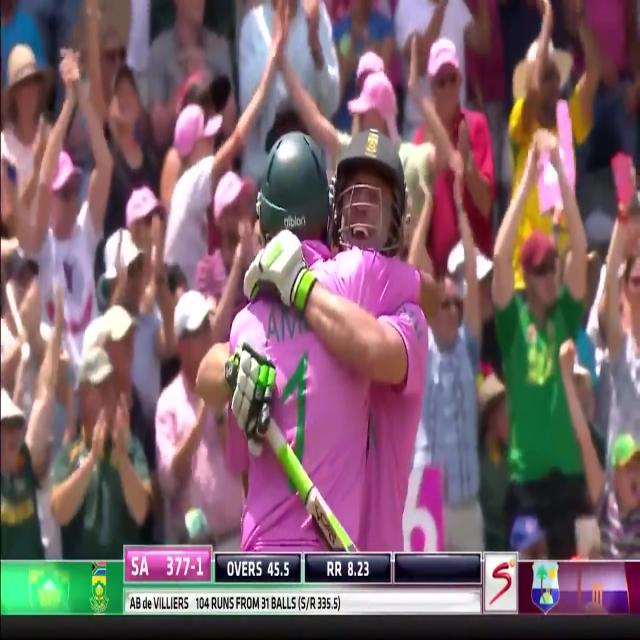Ball: (216, 134, 437, 552)
